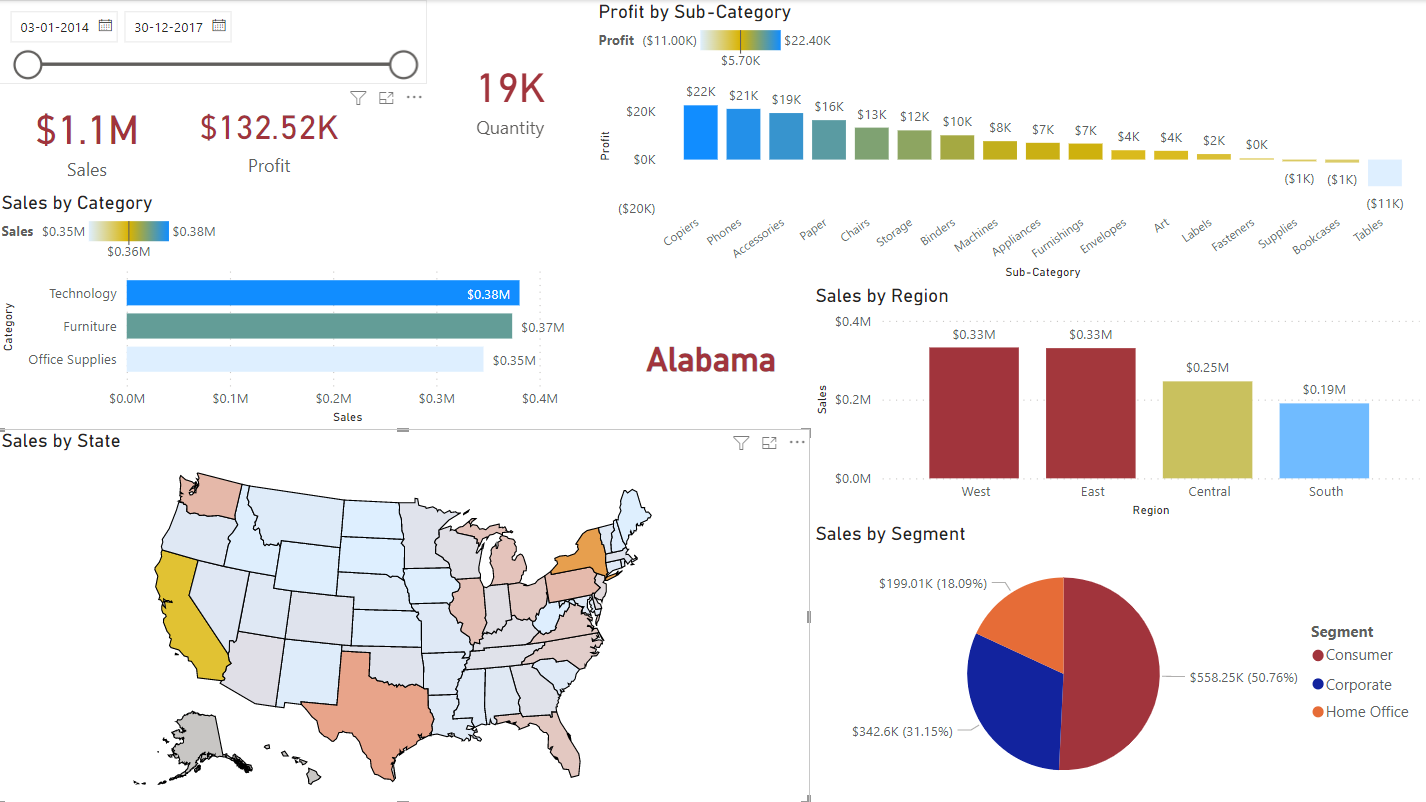

Layout of this report page (visuals, bound fields, positions):
{"tool":"powerbi","page":{"name":"Page 1","canvas":[1280,720],"ordinal":0},"visuals":[{"type":"shapeMap","fields":{"Value":["Sum(Sample - Superstore.Sales)"],"Category":["Sample - Superstore.State"]},"box":[0,384.2,729,335.8],"z":0},{"type":"clusteredColumnChart","fields":{"Y":["Sum(Sample - Superstore.Profit)"],"Category":["Category.Sub-Category"]},"box":[534.6,0,745.1,254.3],"z":1000},{"type":"clusteredBarChart","fields":{"Y":["Sum(Sample - Superstore.Sales)"],"Category":["Category.Category"]},"box":[0,171,534.6,213.1],"z":2000},{"type":"card","fields":{"Values":["Sum(Sample - Superstore.Sales)"]},"box":[0,75.2,163,95.8],"z":3000},{"type":"card","fields":{"Values":["Sum(Sample - Superstore.Profit)"]},"box":[163,73.4,163,97.6],"z":4000},{"type":"pieChart","fields":{"Category":["Sample - Superstore.Segment"],"Y":["Sum(Sample - Superstore.Sales)"]},"box":[729,467.5,550.7,252.5],"z":5000},{"type":"columnChart","fields":{"Y":["Sum(Sample - Superstore.Sales)"],"Category":["Sample - Superstore.Region"]},"box":[729,254.3,550.7,213.1],"z":6000},{"type":"slicer","fields":{"Values":["Sample - Superstore.Order Date"]},"box":[0,0,386,75.2],"z":7000},{"type":"card","fields":{"Values":["Min(Sample - Superstore.State)"]},"box":[552.5,254.3,176.4,129.9],"z":8000},{"type":"card","fields":{"Values":["Sum(Sample - Superstore.Quantity)"]},"box":[386,0,148.7,171],"z":8001}]}

Visuals, with their boxes in screenshot pixels (x1, y1, x2, y2), scaled from the page's 1280x720 canvas onto the 1426x802 screenshot:
shapeMap - Sum(Sample - Superstore.Sales) x Sample - Superstore.State: [0, 428, 812, 801]
clusteredColumnChart - Sum(Sample - Superstore.Profit) x Category.Sub-Category: [596, 0, 1425, 283]
clusteredBarChart - Sum(Sample - Superstore.Sales) x Category.Category: [0, 190, 596, 428]
card - Sum(Sample - Superstore.Sales): [0, 84, 182, 190]
card - Sum(Sample - Superstore.Profit): [182, 82, 363, 190]
pieChart - Sample - Superstore.Segment x Sum(Sample - Superstore.Sales): [812, 521, 1425, 801]
columnChart - Sum(Sample - Superstore.Sales) x Sample - Superstore.Region: [812, 283, 1425, 521]
slicer - Sample - Superstore.Order Date: [0, 0, 430, 84]
card - Min(Sample - Superstore.State): [616, 283, 812, 428]
card - Sum(Sample - Superstore.Quantity): [430, 0, 596, 190]
